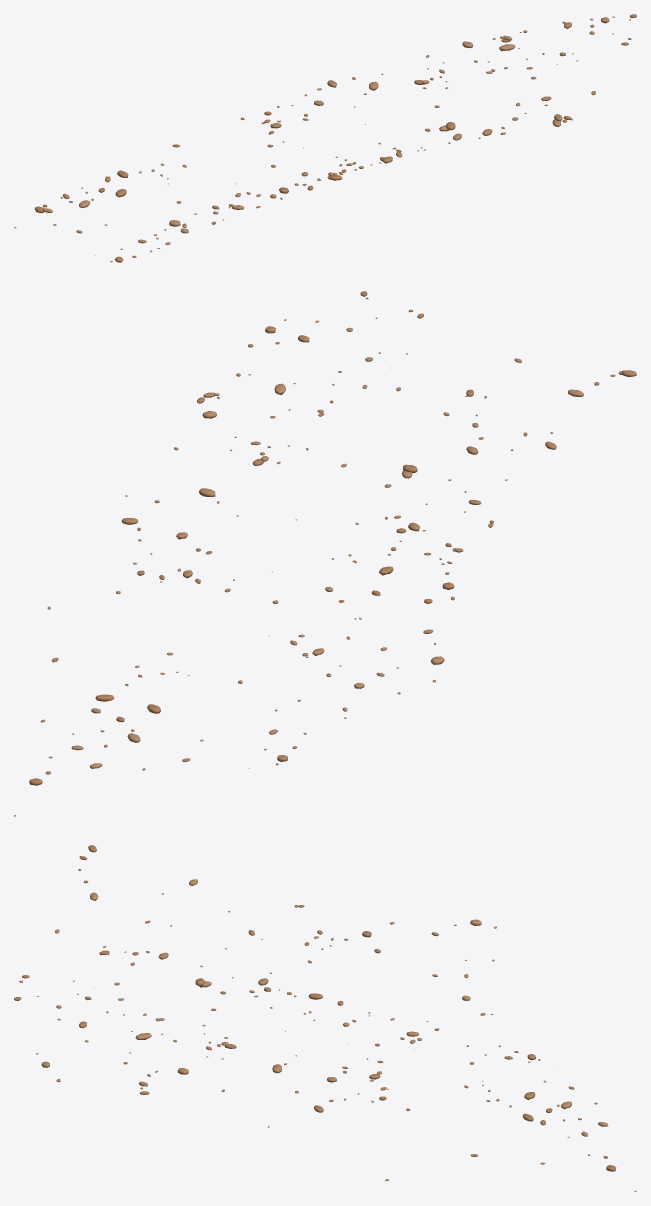
The model's file is terrain-099.glb.
3 renders of one model, top to bottom at view 1: azimuth 90°, elevation 25°; view 2: azimuth 150°, elevation 25°; view 3: azimuth 270°, elevation 25°, orthographic. The views are drawn at different scales.
Parts seen in each view (by area): view 1: terrain-099; view 2: terrain-099; view 3: terrain-099.
Part boxes in pixels (x1,y1,x2,y2): terrain-099: (14, 14, 636, 262); terrain-099: (14, 291, 636, 816); terrain-099: (14, 845, 636, 1191).
Size of the model in its own units: 47.64 by 27.58 by 68.24.
